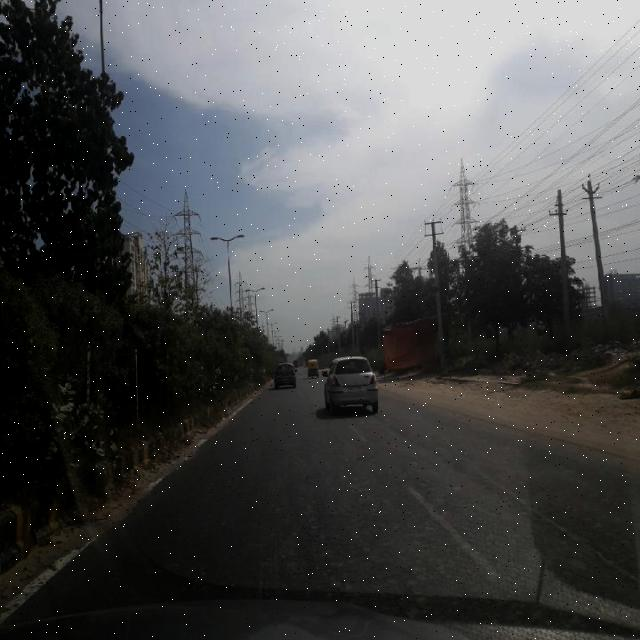D00: (433, 431, 634, 577)
D20: (53, 436, 640, 609)
